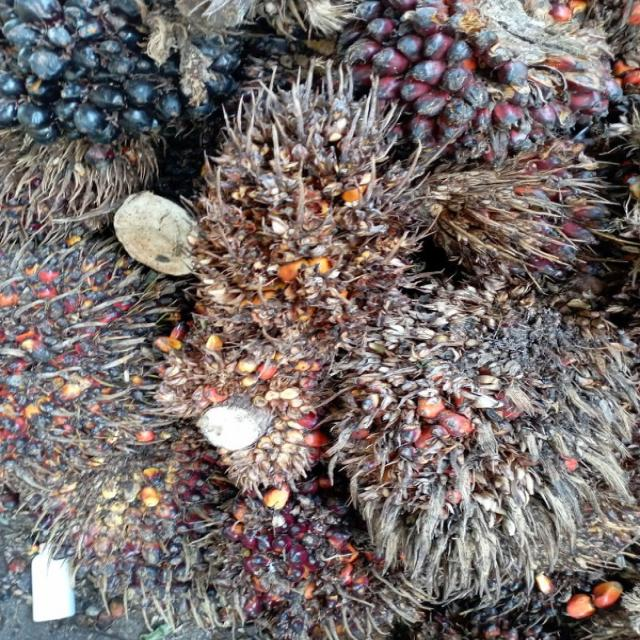fraksi 00: (314, 0, 634, 217), (0, 0, 241, 161)
fraksi 4: (147, 68, 466, 352)
